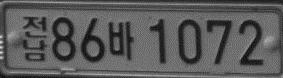0: (177, 18, 201, 64)
1: (148, 19, 171, 63)
2: (239, 19, 263, 65)
6: (80, 17, 106, 62)
7: (206, 18, 232, 64)
8: (52, 15, 76, 62)
바: (108, 20, 134, 60)
전남_V: (22, 15, 47, 61)
